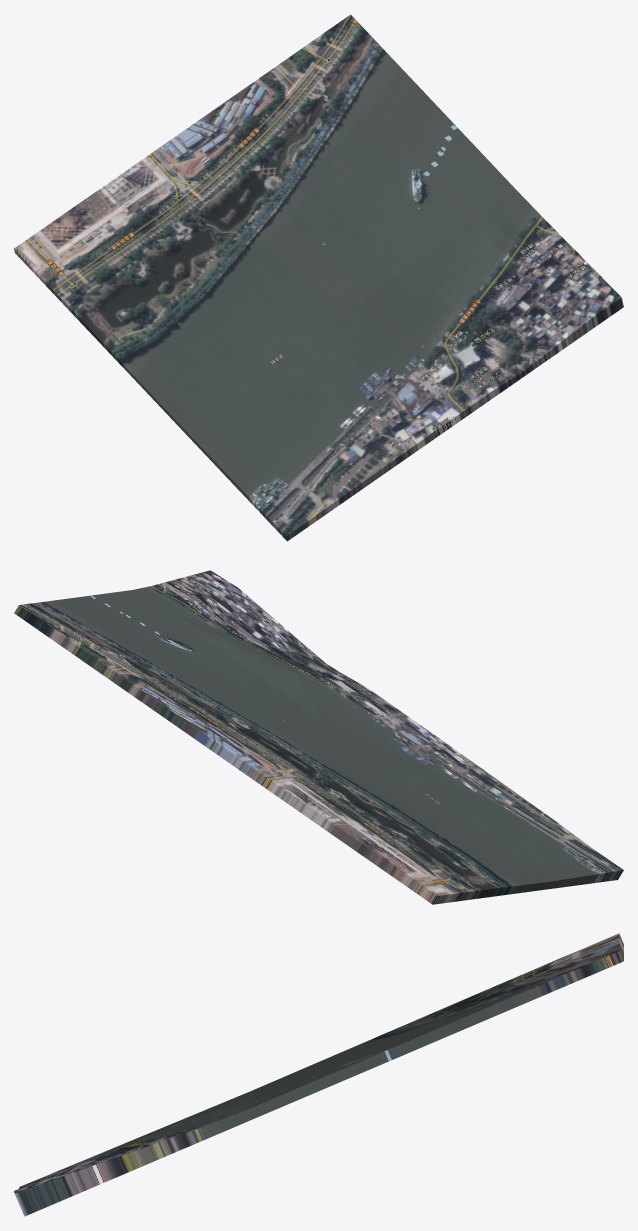
3 views of the same model, one above another, from view 1: azimuth 30°, elevation 25°; view 2: azimuth 150°, elevation 25°; view 3: azimuth 270°, elevation 25° (orthographic). The views are drawn at different scales.
Visible parts, largest first — view 1: 0_19_32; view 2: 0_19_32; view 3: 0_19_32.
Boxes of the visible parts, x1,y1,x2,y2 form: 0_19_32: (14, 14, 623, 541); 0_19_32: (14, 570, 623, 904); 0_19_32: (14, 933, 623, 1216).
Size of the model in its own units: 596 by 437 by 552.
1 material, 1 textured.
